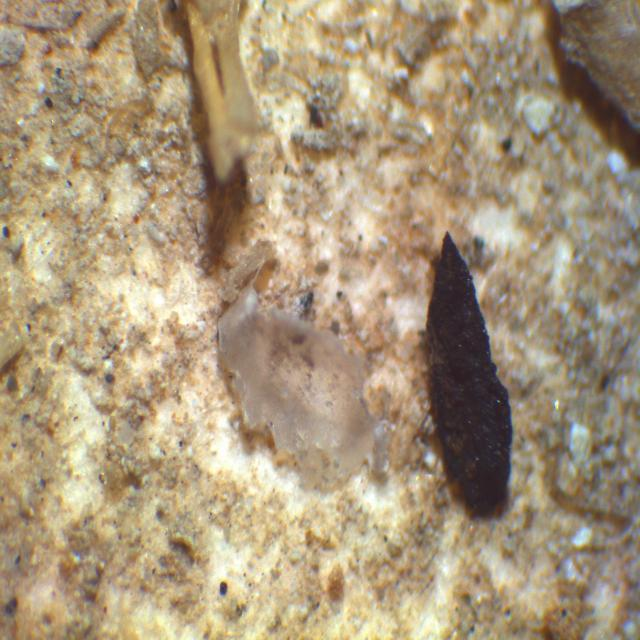microplastic: (217, 281, 389, 490)
